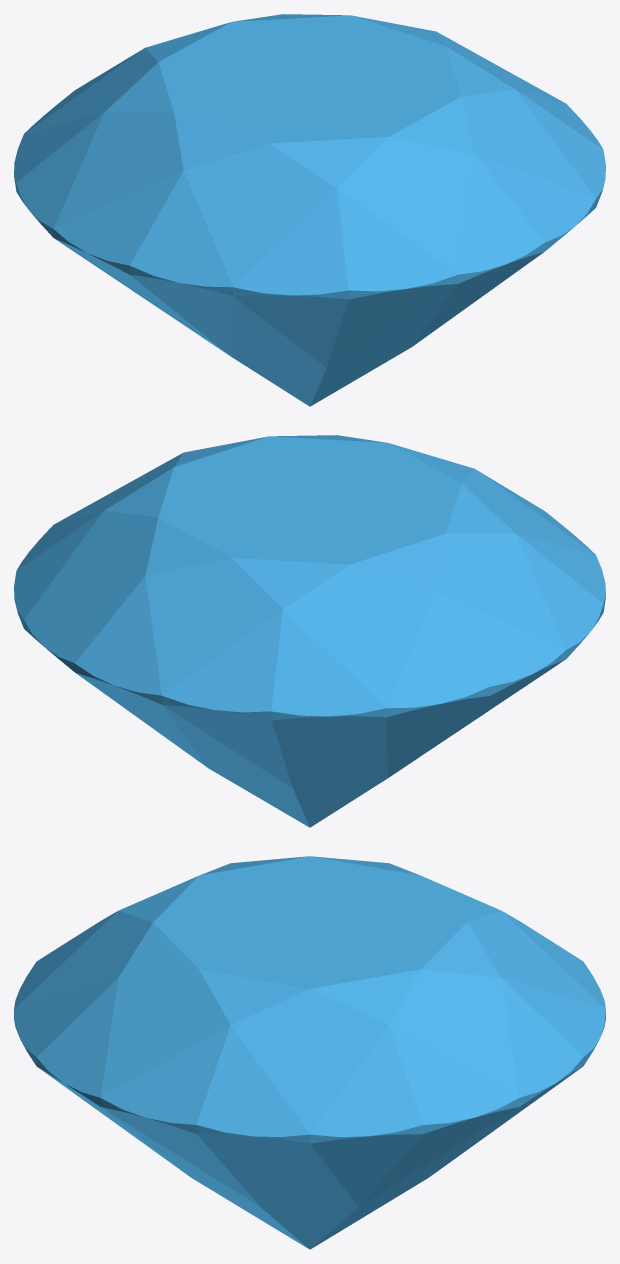
Rendered from Diamond_whole.fbx.
3 views of the same model, one above another, from view 1: azimuth 30°, elevation 25°; view 2: azimuth 150°, elevation 25°; view 3: azimuth 270°, elevation 25° (orthographic).
Visible parts, largest first — view 1: Diamond_whole; view 2: Diamond_whole; view 3: Diamond_whole.
Boxes of the visible parts, <box> form: Diamond_whole: <box>14,14,605,406</box>; Diamond_whole: <box>14,435,605,827</box>; Diamond_whole: <box>14,856,605,1249</box>.
Bounding box in the file's own units: 600 × 366 × 600.
